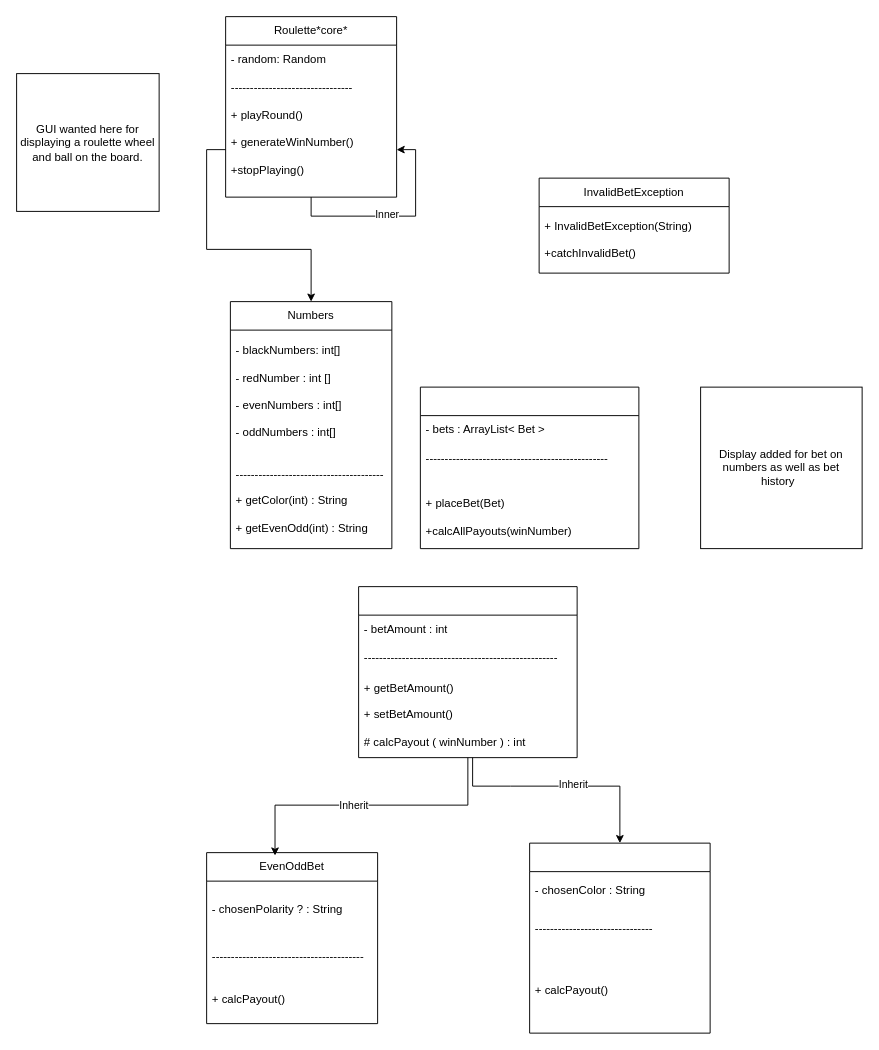
The diagram is 879 pixels wide and 1050 high, and some of its shapes have lost their labels. Here are the shapes that lost their labels. From the top down, the box of each, then its label:
(419, 386, 639, 549): BetManager
(358, 586, 577, 758): Bet ( Abstract Class)
(529, 842, 710, 1033): ColorBet
